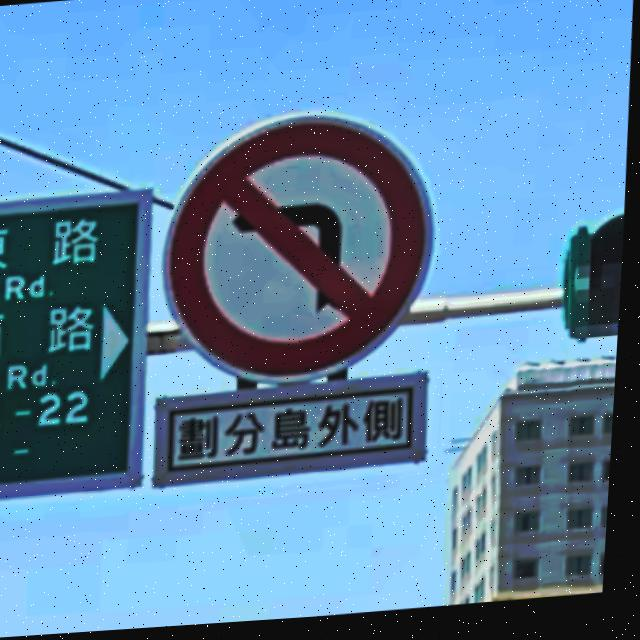noturnleft: (170, 128, 429, 379)
